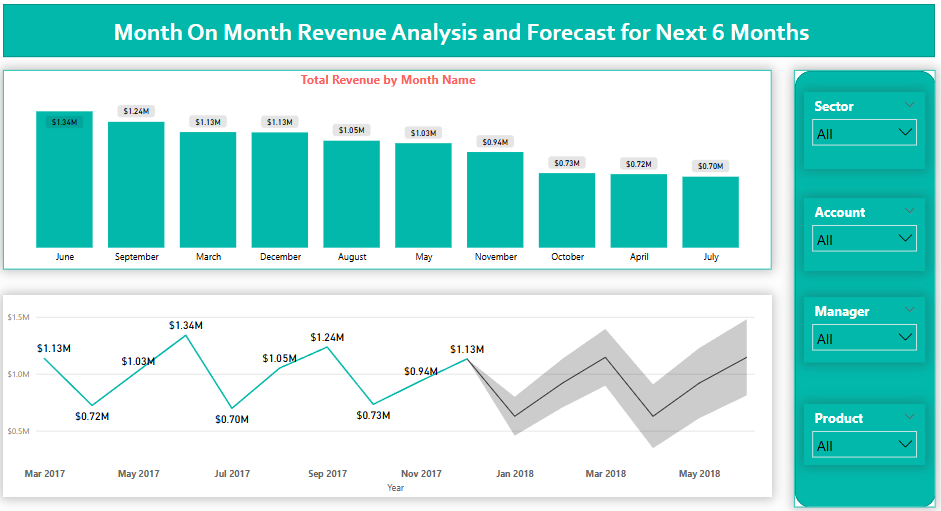

The dashboard page shown, as its layout file describes it:
{"tool":"powerbi","page":{"name":"Monthly Revenue Trends","canvas":[1280,720],"ordinal":2},"visuals":[{"type":"shape","box":[1065,109.2,188.1,581.2],"z":0},{"type":"lineChart","fields":{"Y":["_measures.Total Revenue"],"Category":["Calender.Date.Variation.Date Hierarchy.Year","Calender.Date.Variation.Date Hierarchy.Quarter","Calender.Date.Variation.Date Hierarchy.Month"]},"box":[15.1,408.2,1021.3,268.8],"z":1000},{"type":"columnChart","fields":{"Category":["Calender.Month Name"],"Y":["_measures.Total Revenue"]},"box":[15.1,109.2,1021.3,265.4],"z":2000},{"type":"slicer","fields":{"Values":["sales_pipeline.account"]},"box":[1078.4,279.2,161.3,97.4],"z":3000},{"type":"slicer","fields":{"Values":["sales_pipeline.product"]},"box":[1078.4,553,161.3,80.6],"z":4000},{"type":"slicer","fields":{"Values":["accounts.sector"]},"box":[1078.4,138.1,161.3,102.5],"z":5000},{"type":"slicer","fields":{"Values":["sales_teams.manager"]},"box":[1078.4,410.2,161.3,87.3],"z":6000},{"type":"shape","box":[15.1,21.8,1238,70.6],"z":7000},{"type":"textbox","box":[94.1,34.4,1065.1,58.3],"z":8000}]}

Visuals, with their boxes on the page's 1280x720 design canvas (x1, y1, x2, y2). These are canvas units, not pixel positions in the 941x511 screenshot, which may show the page scaled, cropped or inside an application window:
shape: 1065 109 1253 690
lineChart - _measures.Total Revenue x Calender.Date.Variation.Date Hierarchy.Year: 15 408 1036 677
columnChart - Calender.Month Name x _measures.Total Revenue: 15 109 1036 375
slicer - sales_pipeline.account: 1078 279 1240 377
slicer - sales_pipeline.product: 1078 553 1240 634
slicer - accounts.sector: 1078 138 1240 241
slicer - sales_teams.manager: 1078 410 1240 498
shape: 15 22 1253 92
textbox: 94 34 1159 93
